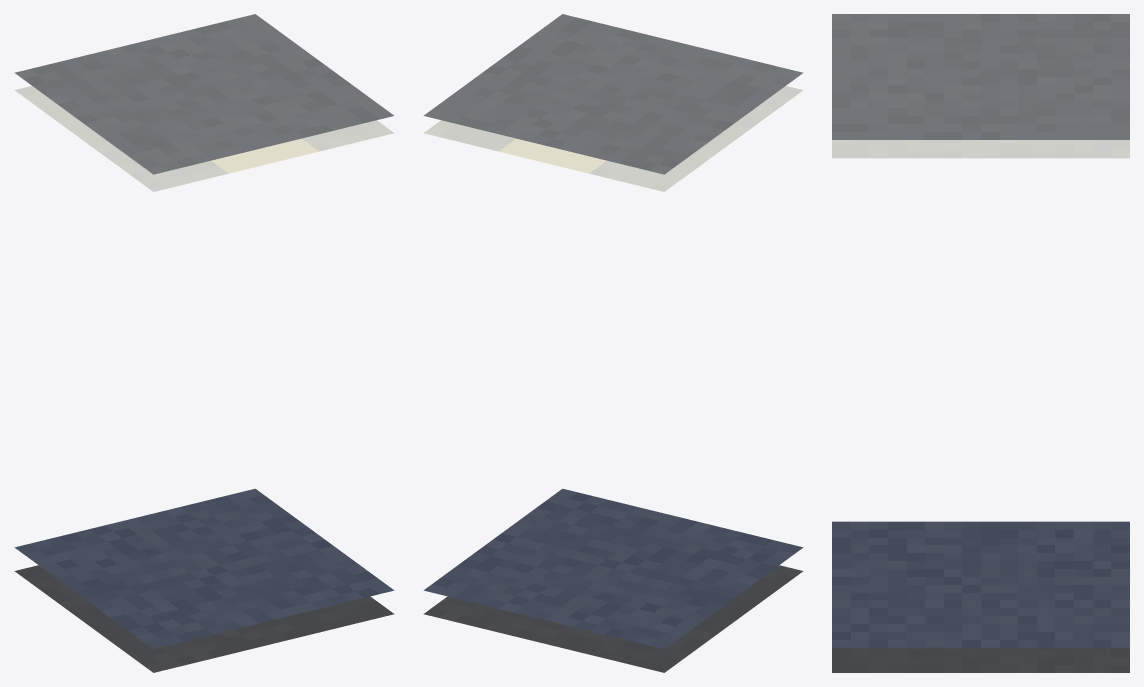
Rendered from airport_jet_bridge_corner_c0.obj.
3 views of the same model, side by side, from view 1: azimuth 30°, elevation 25°; view 2: azimuth 150°, elevation 25°; view 3: azimuth 270°, elevation 25° (orthographic). The views are drawn at different scales.
Visible parts, largest first — view 1: airport_jet_bridge_corner_c0; view 2: airport_jet_bridge_corner_c0; view 3: airport_jet_bridge_corner_c0.
Part boxes in pixels (x1,y1,x2,y2): airport_jet_bridge_corner_c0: [14, 14, 394, 672]; airport_jet_bridge_corner_c0: [423, 14, 803, 672]; airport_jet_bridge_corner_c0: [832, 14, 1129, 672].
Size of the model in its own units: 1 by 1.98 by 1.
